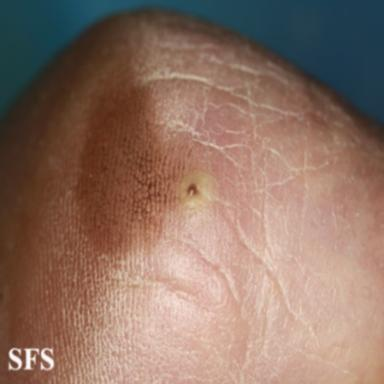Tungiasis: (179, 171, 215, 208)
